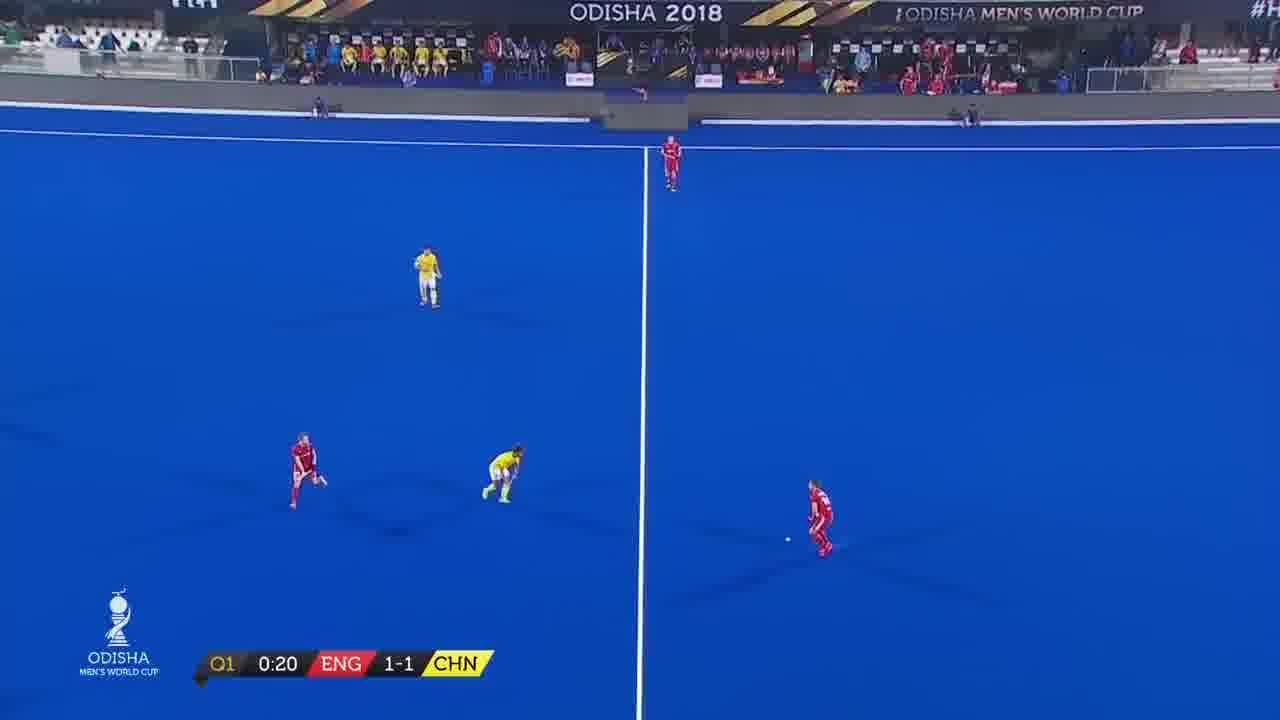ball: (785, 532, 795, 546)
